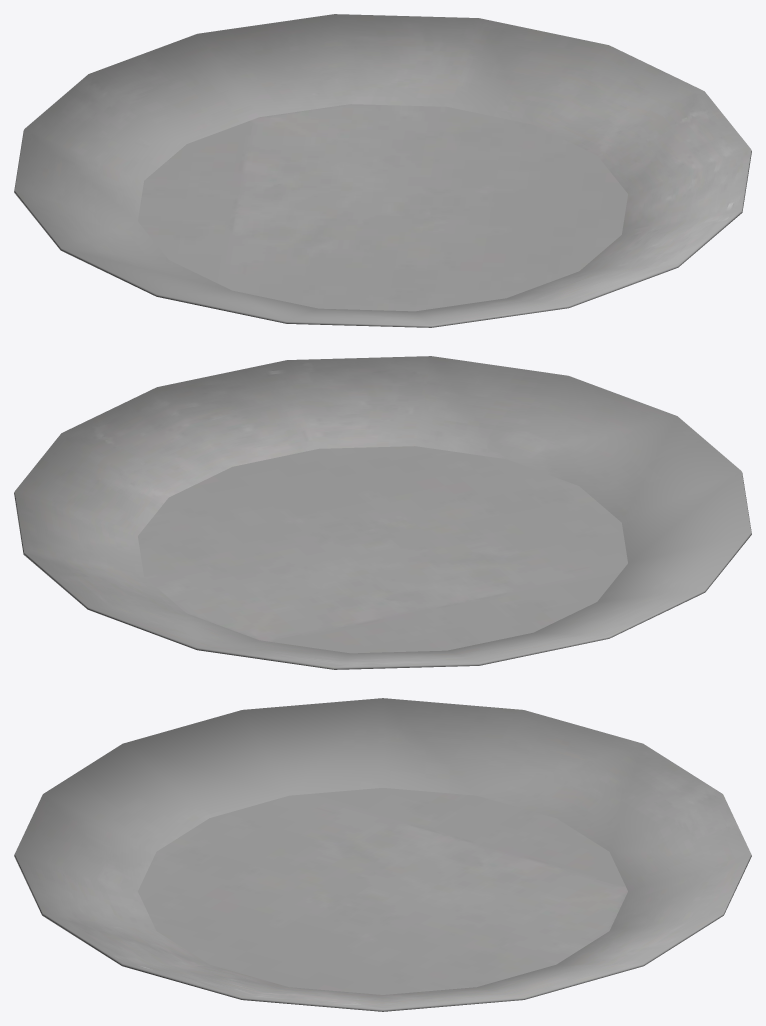
The model's file is plate.glb.
3 views of the same model, one above another, from view 1: azimuth 30°, elevation 25°; view 2: azimuth 150°, elevation 25°; view 3: azimuth 270°, elevation 25° (orthographic).
Visible parts, largest first — view 1: SM_Plate_T_Plate_0; view 2: SM_Plate_T_Plate_0; view 3: SM_Plate_T_Plate_0.
Boxes of the visible parts, bbox=[...] form: SM_Plate_T_Plate_0: bbox=[14, 14, 751, 327]; SM_Plate_T_Plate_0: bbox=[14, 356, 751, 669]; SM_Plate_T_Plate_0: bbox=[14, 698, 751, 1011].
Bounding box in the file's own units: 0.264 × 0.0157 × 0.264.
1 material, 1 textured.
